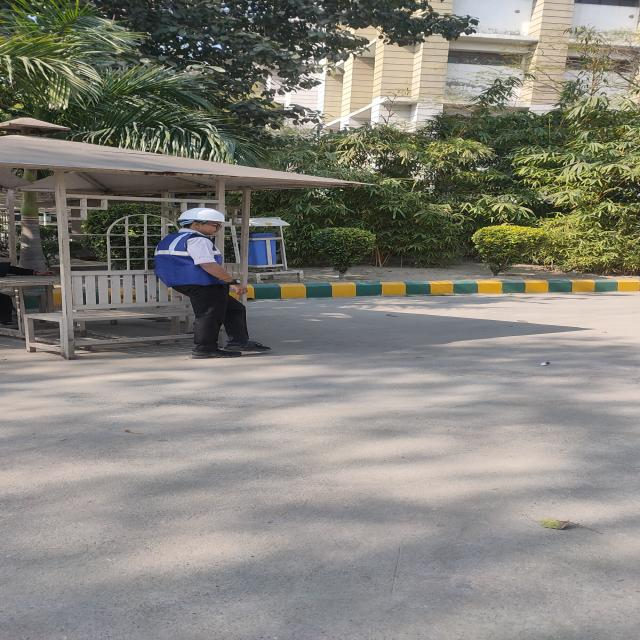safe: (156, 208, 248, 359)
